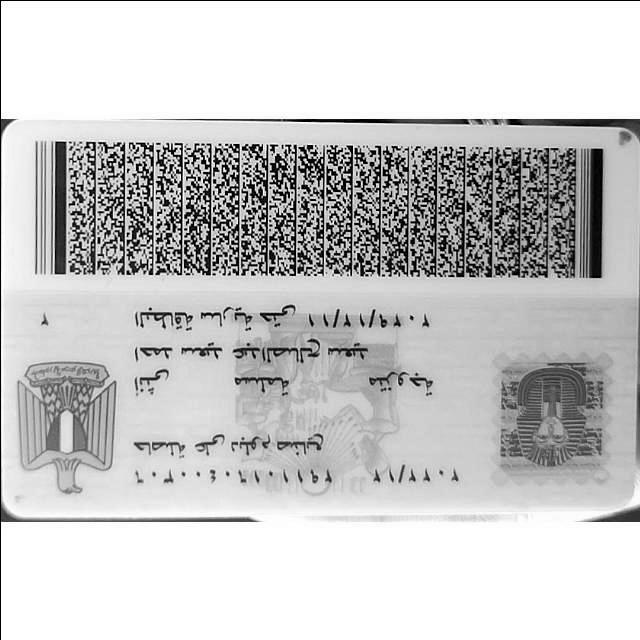back: (0, 121, 639, 519)
